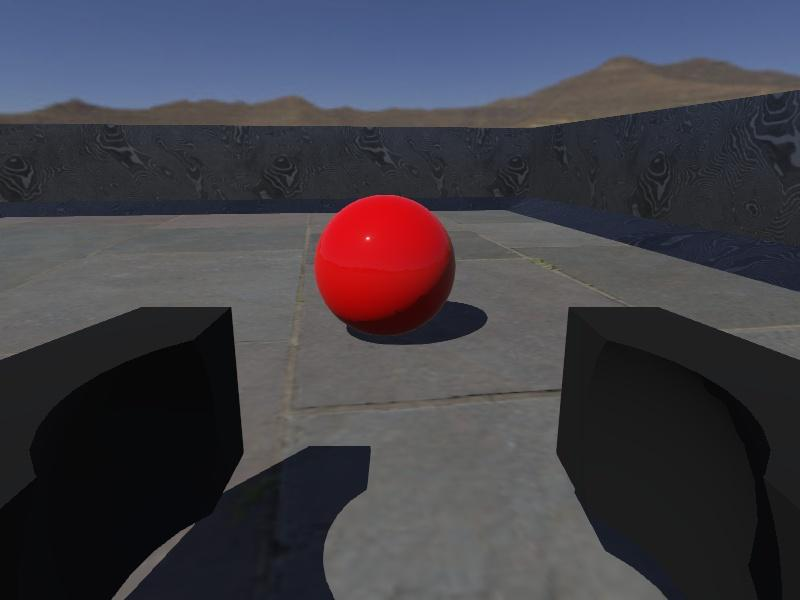red ball: (313, 193, 457, 339)
